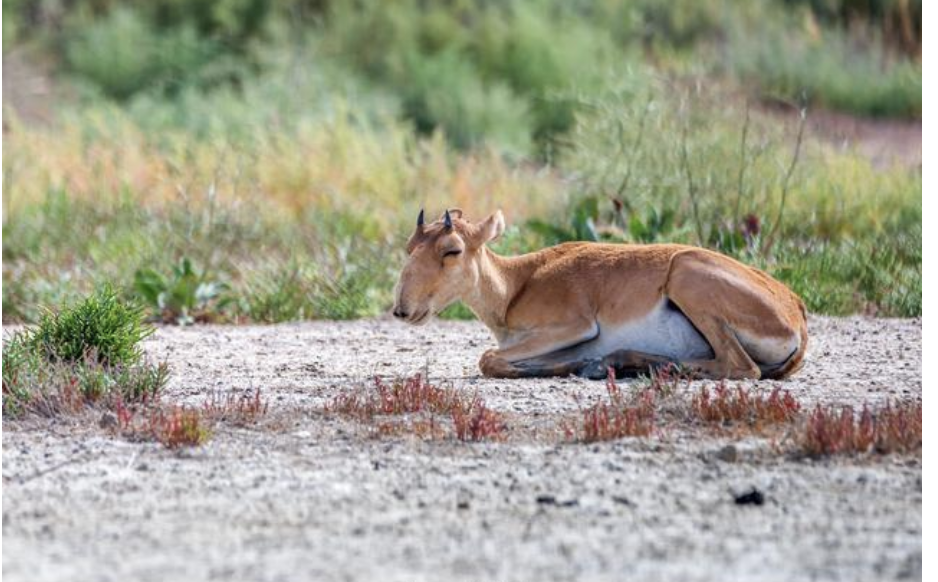saiga: (383, 194, 824, 386)
